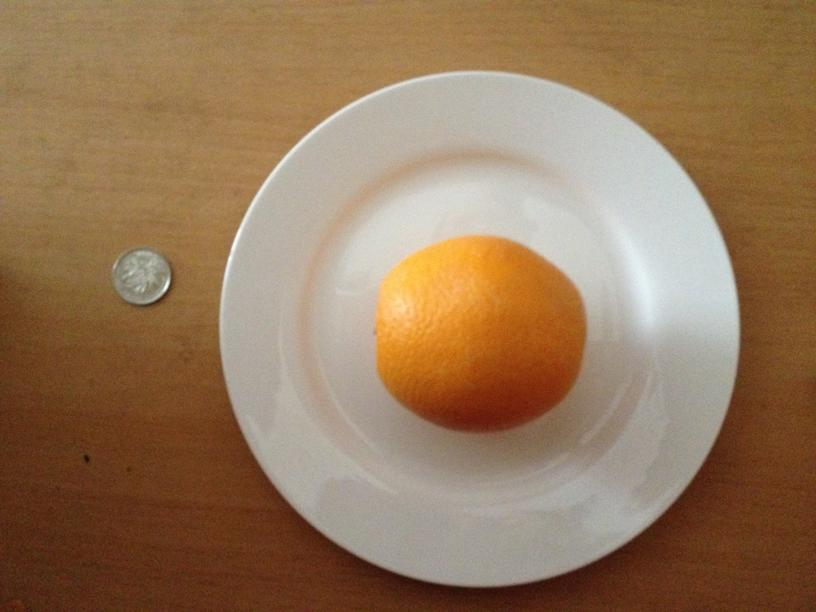coin: (112, 244, 170, 304)
orange: (378, 234, 586, 432)
